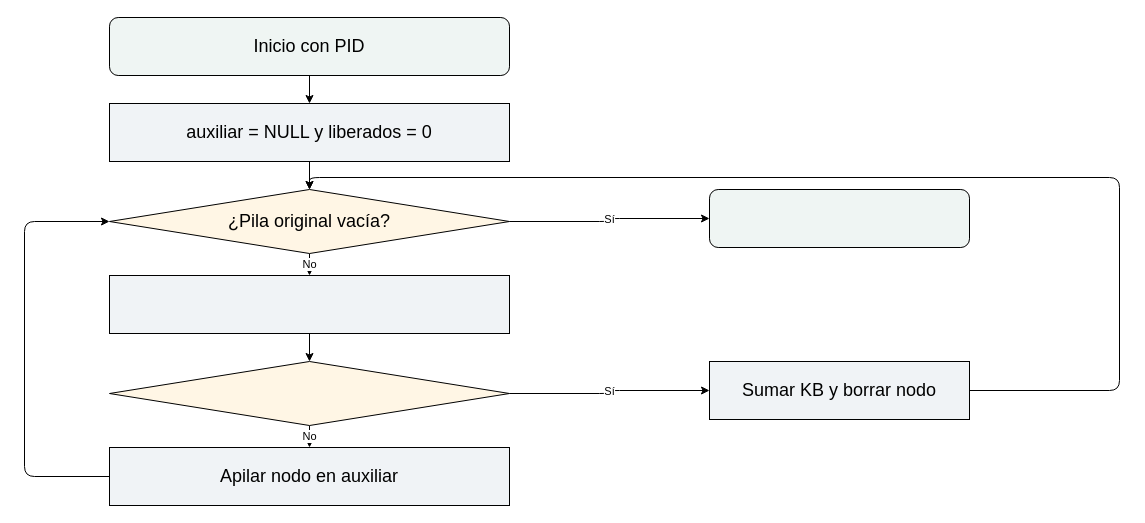
The diagram is 1145 pixels wide and 523 high, and some of its shapes have lost their labels. The centre of each missing label's shape, as x and y in pixels:
Desenlazar nodo del tope: (x=309, y=304)
Ir a restauración de pila: (x=839, y=218)
¿PID del nodo coincide?: (x=309, y=393)
